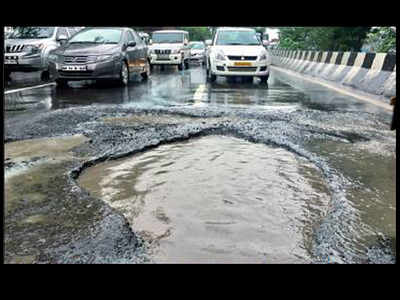pothole: (85, 103, 342, 261)
